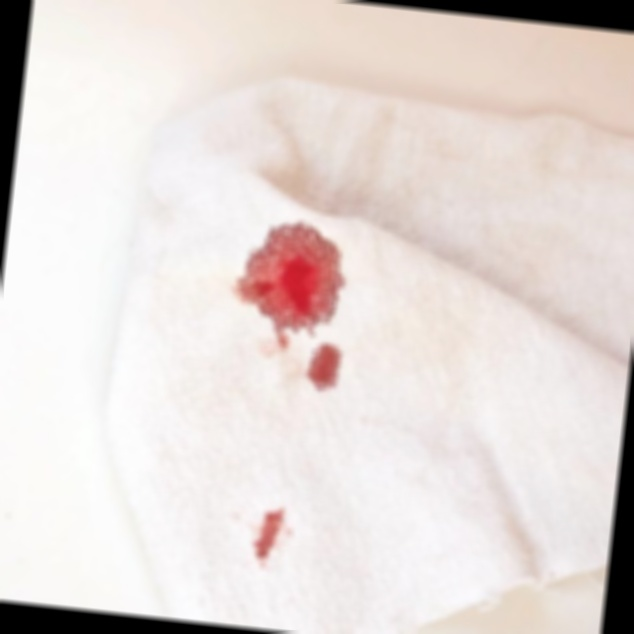blood: (220, 212, 356, 395), (245, 502, 291, 566)
